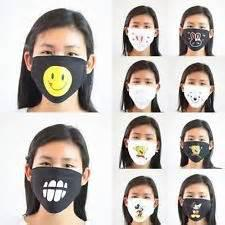OK: (31, 35, 91, 95), (33, 153, 85, 206), (183, 19, 212, 50), (128, 21, 158, 50), (183, 189, 211, 219), (129, 191, 159, 219), (184, 77, 212, 106), (130, 77, 157, 106), (184, 132, 210, 160)
